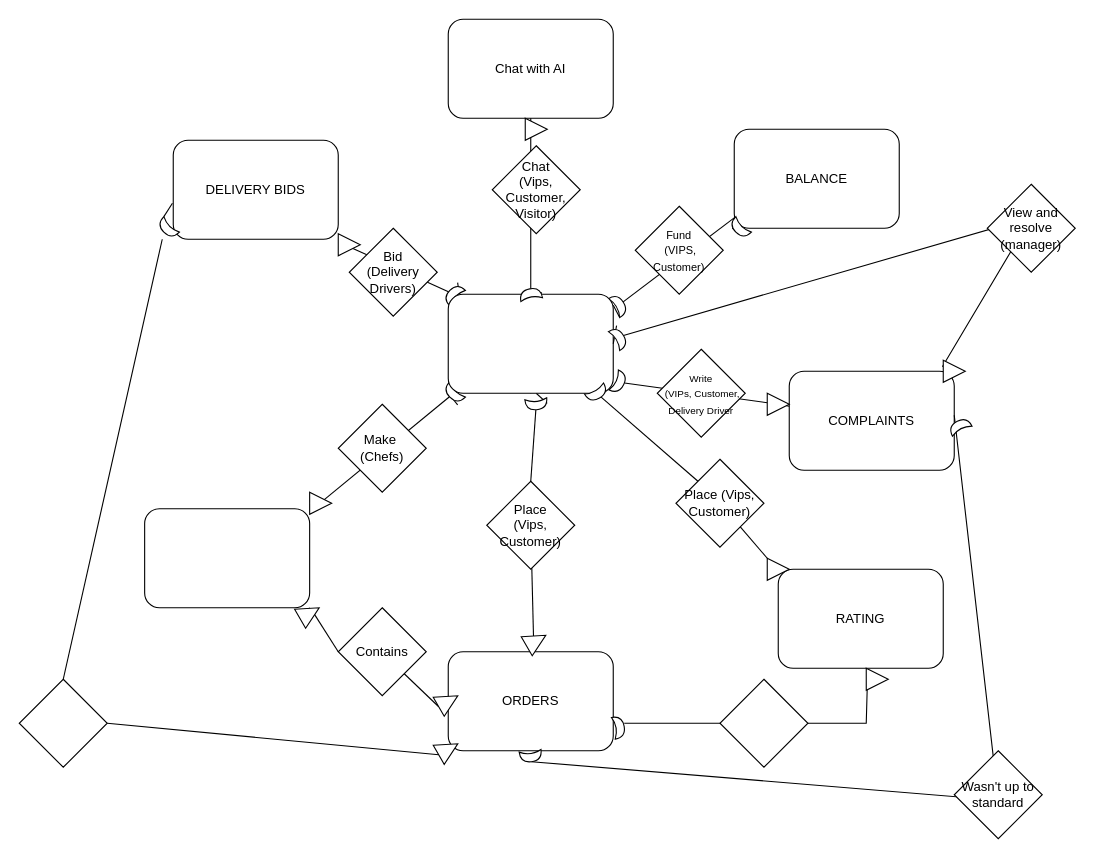
Some shapes in this 1095 by 858 pixel diagram are drawn without their labels. Here are the shapes that lost their labels. From the top down, the centre of each, then its label:
point (530, 343): USERS (Customer, VIP, Chef, Manager, Delivery Driver, Visitor)
point (227, 558): DISHES
point (62, 722): Has
point (763, 722): How the order was
